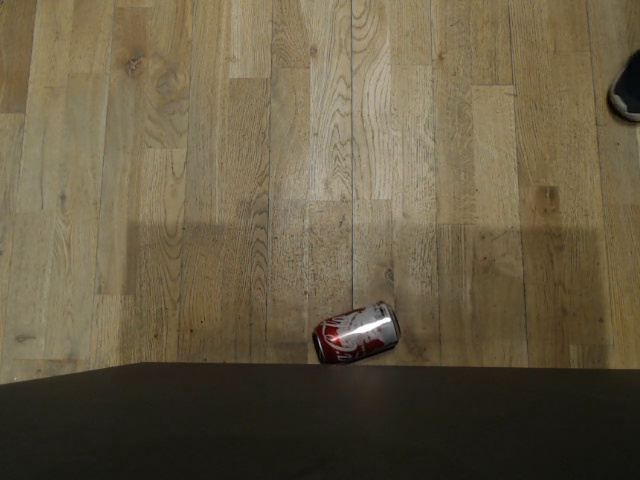cola: (311, 297, 403, 366)
